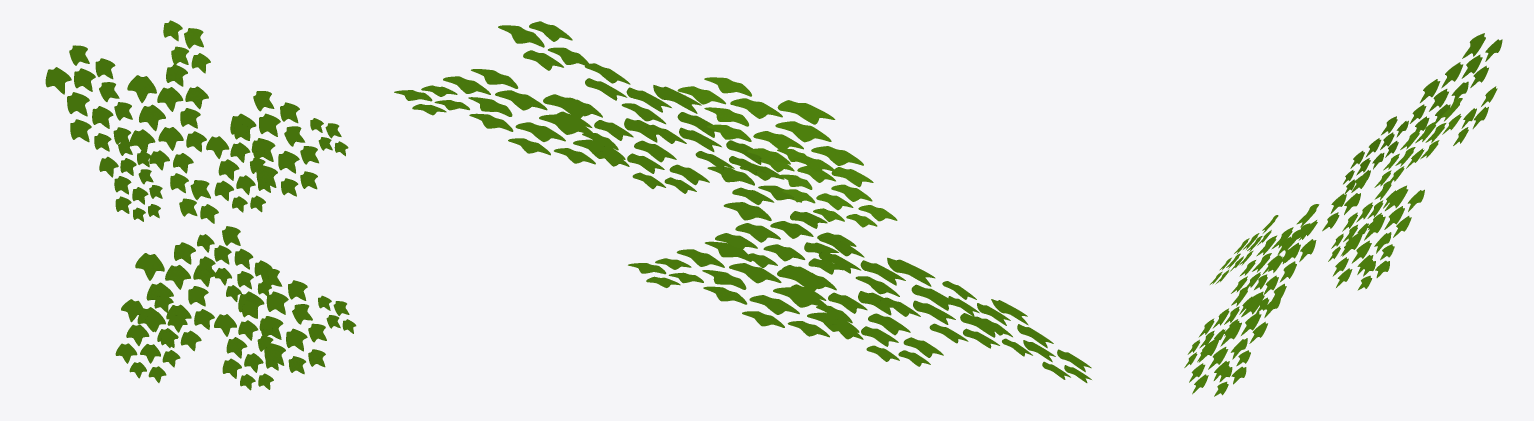
Rendered from Prop_Vine8.gltf.
3 renders of one model, left to right at view 1: azimuth 30°, elevation 25°; view 2: azimuth 150°, elevation 25°; view 3: azimuth 270°, elevation 25°, orthographic. The views are drawn at different scales.
Parts seen in each view (by area): view 1: Prop_Vine8; view 2: Prop_Vine8; view 3: Prop_Vine8.
Part boxes in pixels (left/top/right/bottom): Prop_Vine8: left=45, top=20, right=356, bottom=390; Prop_Vine8: left=394, top=21, right=1091, bottom=382; Prop_Vine8: left=1184, top=33, right=1502, bottom=396.
Bounding box in the file's own units: 2.78 × 2.42 × 2.42.
Materials: 1 (1 with a texture image).
